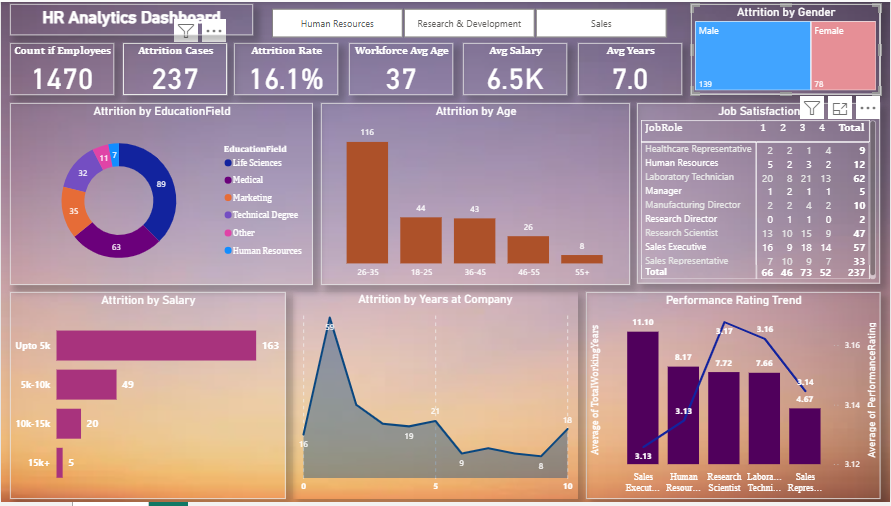

Layout of this report page (visuals, bound fields, positions):
{"tool":"powerbi","page":{"name":"Page 1","canvas":[1280,720],"ordinal":0},"visuals":[{"type":"card","title":"Count if Employees","fields":{"Values":["Count(HR_Analytics.EmpID)"]},"box":[13.5,58.4,149.7,74.9],"z":0},{"type":"card","title":"Attrition Cases","fields":{"Values":["Sum(HR_Analytics.Attrition Count)"]},"box":[175.2,58.4,149.7,74.9],"z":1000},{"type":"card","title":"Attrition Rate","fields":{"Values":["HR_Analytics.AttritionRate"]},"box":[335.3,58.4,149.7,74.9],"z":2000},{"type":"card","title":"Workforce Avg Age ","fields":{"Values":["Avg(HR_Analytics.Age)"]},"box":[501.5,58.4,149.7,74.9],"z":3000},{"type":"card","title":"Avg Salary ","fields":{"Values":["Avg(HR_Analytics.MonthlyIncome)"]},"box":[664.7,58.4,149.7,74.9],"z":4000},{"type":"card","title":"Avg Years  ","fields":{"Values":["Avg(HR_Analytics.YearsAtCompany)"]},"box":[830.9,58.4,149.7,74.9],"z":5000},{"type":"donutChart","title":"Attrition  by EducationField","fields":{"Category":["HR_Analytics.EducationField"],"Y":["Sum(HR_Analytics.Attrition Count)"]},"box":[13.5,145.2,435.6,262],"z":6000},{"type":"columnChart","title":"Attrition  by Age","fields":{"Category":["HR_Analytics.AgeGroup"],"Y":["Sum(HR_Analytics.Attrition Count)"]},"box":[461.1,145.2,444.6,262],"z":7000},{"type":"pivotTable","title":"Job Satisfaction","fields":{"Rows":["HR_Analytics.JobRole"],"Columns":["HR_Analytics.JobSatisfaction"],"Values":["Sum(HR_Analytics.Attrition Count)"]},"box":[916.2,145.2,350.3,260.5],"z":8000},{"type":"barChart","title":"Attrition  by Salary","fields":{"Category":["HR_Analytics.SalarySlab"],"Y":["Sum(HR_Analytics.Attrition Count)"]},"box":[13.5,417.7,396.7,297.9],"z":9000},{"type":"lineStackedColumnComboChart","title":"Performance Rating Trend","fields":{"Category":["HR_Analytics.JobRole"],"Y2":["Avg(HR_Analytics.PerformanceRating)"],"Y":["Avg(HR_Analytics.TotalWorkingYears)"]},"box":[842.9,417.7,423.7,297.9],"z":10000},{"type":"areaChart","title":"Attrition  by Years at Company","fields":{"Category":["HR_Analytics.YearsAtCompany"],"Y":["Sum(HR_Analytics.Attrition Count)"]},"box":[420.7,417.7,410.2,297.9],"z":11000},{"type":"treemap","title":"Attrition  by Gender","fields":{"Group":["HR_Analytics.Gender"],"Values":["Sum(HR_Analytics.Attrition Count)"]},"box":[994.1,3,272.5,130.2],"z":12000},{"type":"slicer","fields":{"Values":["HR_Analytics.Department"]},"box":[363.8,3,618.3,55.4],"z":13000},{"type":"textbox","box":[13.5,3,350.3,44.9],"z":14000}]}

Visuals, with their boxes in screenshot pixels (x1, y1, x2, y2), scaled from the page's 1280x720 canvas onto the 891x506 screenshot:
"Count if Employees" card: bbox=(9, 41, 114, 94)
"Attrition Cases" card: bbox=(122, 41, 226, 94)
"Attrition Rate" card: bbox=(233, 41, 338, 94)
"Workforce Avg Age " card: bbox=(349, 41, 453, 94)
"Avg Salary " card: bbox=(463, 41, 567, 94)
"Avg Years  " card: bbox=(578, 41, 683, 94)
"Attrition  by EducationField" donutChart: bbox=(9, 102, 313, 286)
"Attrition  by Age" columnChart: bbox=(321, 102, 630, 286)
"Job Satisfaction" pivotTable: bbox=(638, 102, 882, 285)
"Attrition  by Salary" barChart: bbox=(9, 294, 286, 503)
"Performance Rating Trend" lineStackedColumnComboChart: bbox=(587, 294, 882, 503)
"Attrition  by Years at Company" areaChart: bbox=(293, 294, 578, 503)
"Attrition  by Gender" treemap: bbox=(692, 2, 882, 94)
slicer - HR_Analytics.Department: bbox=(253, 2, 684, 41)
textbox: bbox=(9, 2, 253, 34)
